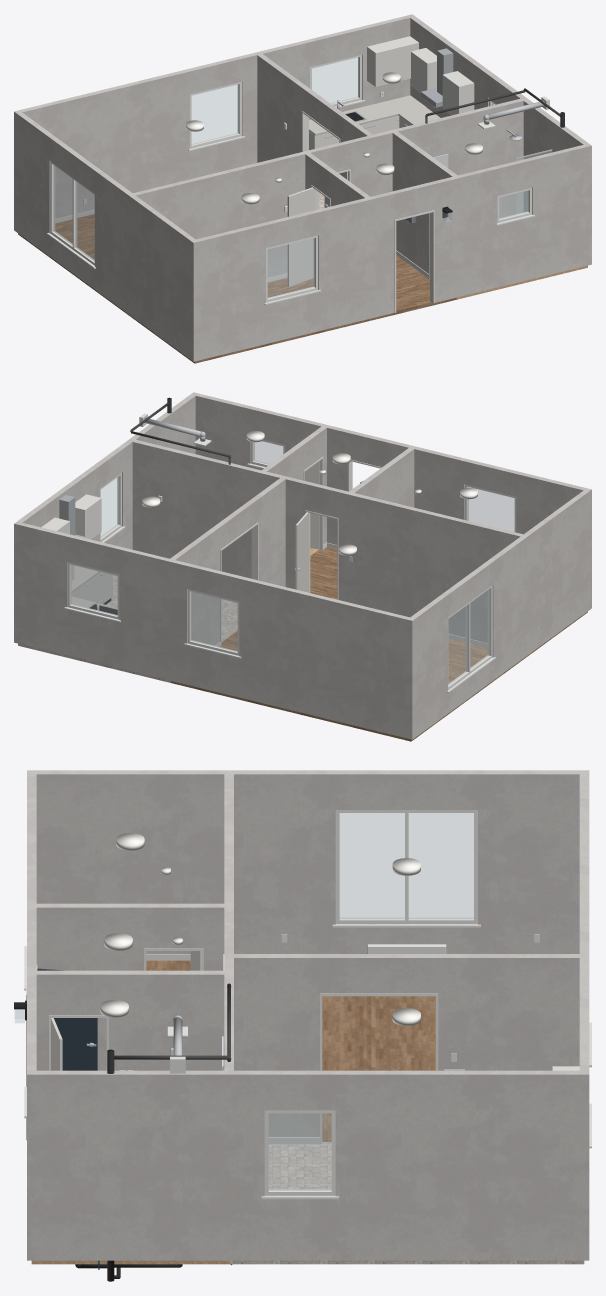
Rendered from house.glb.
3 renders of one model, top to bottom at view 1: azimuth 30°, elevation 25°; view 2: azimuth 150°, elevation 25°; view 3: azimuth 270°, elevation 25°, orthographic. The views are drawn at different scales.
Parts seen in each view (by area): view 1: wall__h_7000__0, wall__h_0__0, wall__v_0__0, wall__h_4500__0, wall__v_5500__0, wall__v_9000__0, wall__v_6000__0, wall__v_0__living_picture__frame, wall__h_7000__bedroom_south__frame, wall__h_0__living_north__frame, wall__v_4000__0, fixture__kitchen__counter_east_0__wall_cabinet (+12 smaller); view 2: wall__h_0__0, wall__h_4500__0, wall__v_0__0, wall__h_7000__0, wall__v_5500__0, wall__v_9000__0, wall__v_0__living_picture__frame, wall__h_0__living_north__frame, wall__h_0__kitchen_sink__frame, wall__v_4000__0, floor__living, wall__v_6000__0 (+12 smaller); view 3: wall__v_9000__0, wall__v_0__0, wall__v_5500__0, wall__v_0__living_picture__frame, wall__v_6000__0, wall__v_4000__0, floor__living, wall__v_9000__kitchen_east__frame, floor__kitchen, wall__h_7000__0, wall__h_0__0, wall__h_4500__0 (+5 smaller).
Boxes of the visible parts, <box> form: wall__h_7000__0: <box>190,144,591,361</box>; wall__h_0__0: <box>14,14,414,232</box>; wall__v_0__0: <box>17,112,198,361</box>; wall__h_4500__0: <box>127,97,528,315</box>; wall__v_5500__0: <box>257,52,375,196</box>; wall__v_9000__0: <box>408,15,591,264</box>; wall__v_6000__0: <box>392,130,460,297</box>; wall__v_0__living_picture__frame: <box>50,161,94,265</box>; wall__h_7000__bedroom_south__frame: <box>266,235,317,302</box>; wall__h_0__living_north__frame: <box>190,81,241,148</box>; wall__v_4000__0: <box>305,151,373,318</box>; fixture__kitchen__counter_east_0__wall_cabinet: <box>411,48,474,115</box>; wall__h_0__0: <box>14,522,415,739</box>; wall__h_4500__0: <box>128,438,528,655</box>; wall__v_0__0: <box>407,489,591,739</box>; wall__h_7000__0: <box>191,392,590,544</box>; wall__v_5500__0: <box>167,476,287,680</box>; wall__v_9000__0: <box>14,392,198,643</box>; wall__v_0__living_picture__frame: <box>448,585,492,689</box>; wall__h_0__living_north__frame: <box>187,589,239,655</box>; wall__h_0__kitchen_sink__frame: <box>67,562,119,619</box>; wall__v_4000__0: <box>347,446,416,507</box>; floor__living: <box>171,631,524,741</box>; wall__v_6000__0: <box>258,426,326,544</box>; wall__v_9000__0: <box>27,1070,589,1260</box>; wall__v_0__0: <box>27,770,588,953</box>; wall__v_5500__0: <box>228,954,589,1137</box>; wall__v_0__living_picture__frame: <box>335,810,477,923</box>; wall__v_6000__0: <box>30,970,224,1070</box>; wall__v_4000__0: <box>27,903,233,1070</box>; floor__living: <box>322,996,435,1141</box>; wall__v_9000__kitchen_east__frame: <box>264,1110,335,1195</box>; floor__kitchen: <box>229,1142,584,1264</box>; wall__h_7000__0: <box>27,770,36,1260</box>; wall__h_0__0: <box>579,770,589,1074</box>; wall__h_4500__0: <box>224,770,233,1074</box>.
Bounding box in the file's own units: 9.24 × 3.3 × 7.32.
Materials: 26 (4 with a texture image).
